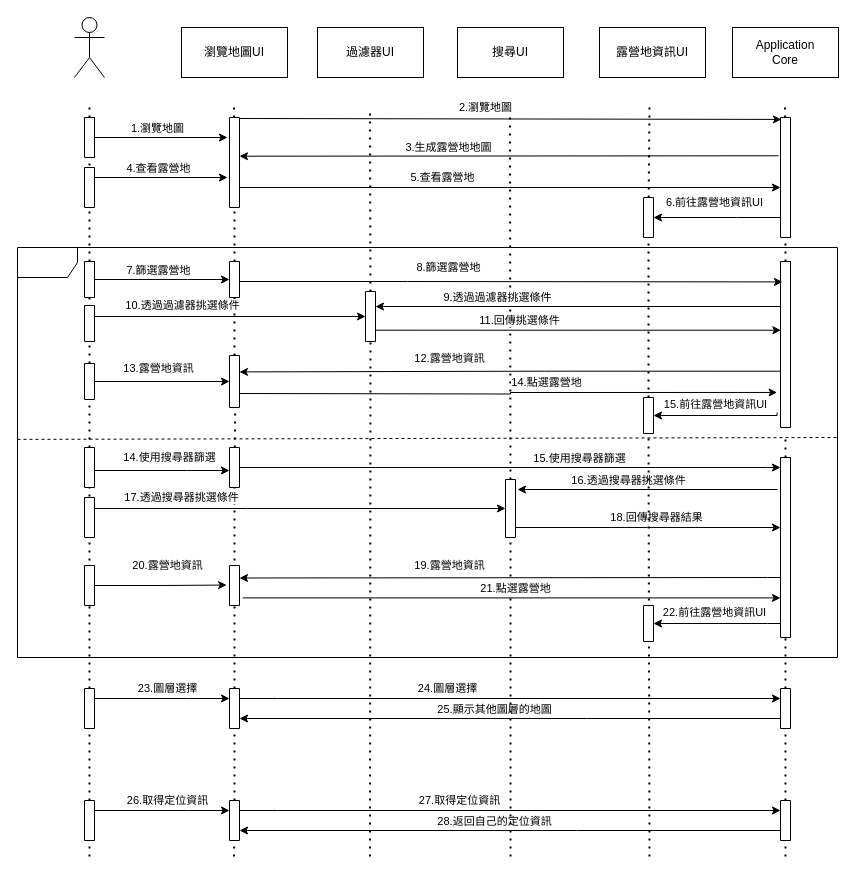
The diagram is 857 pixels wide and 876 high, and some of its shapes have lost their labels. The box of each missing label's shape, as (x1, y1, x2, y2) in pixels:
Opt: (16, 246, 838, 658)
使用者: (74, 16, 104, 78)
